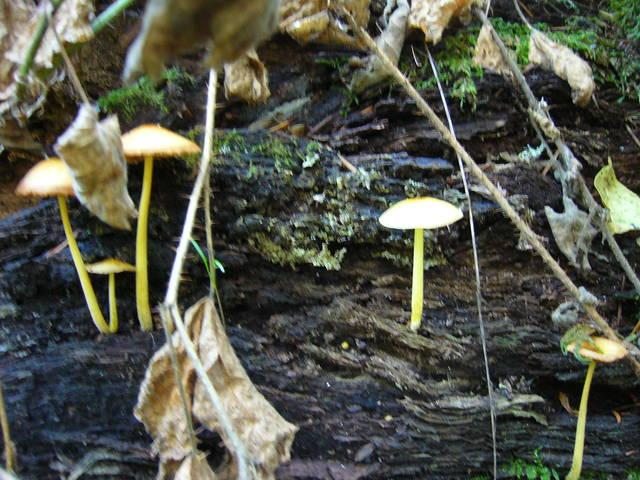Edible Mushroom: (118, 122, 201, 331), (377, 195, 464, 331)
